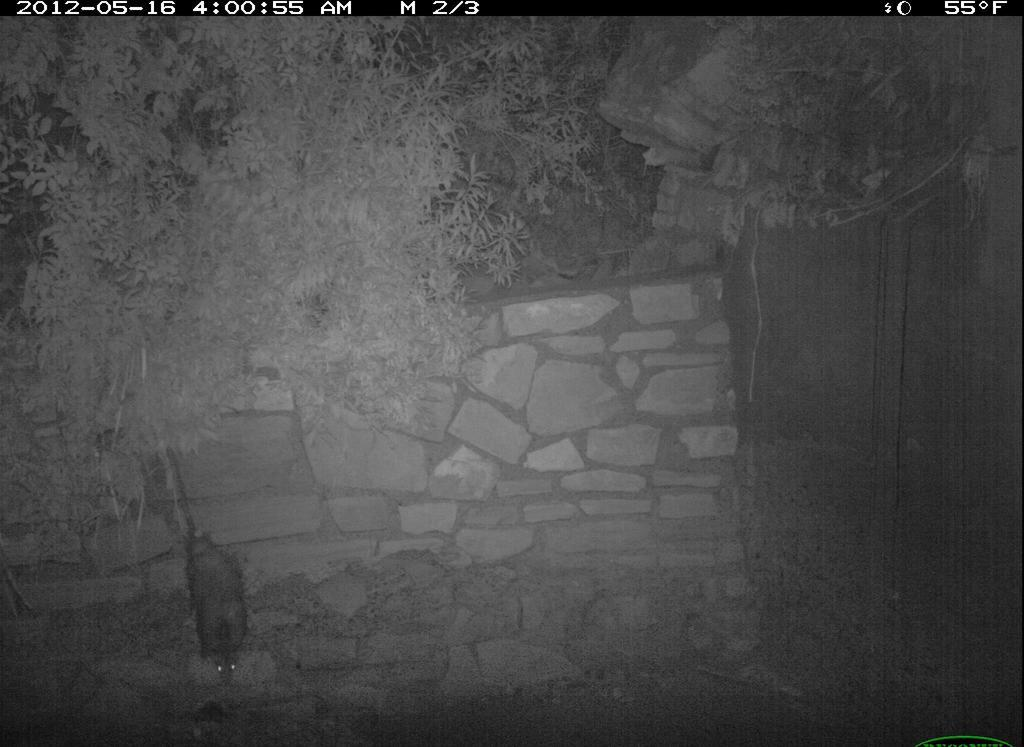opossum: (158, 443, 283, 702)
